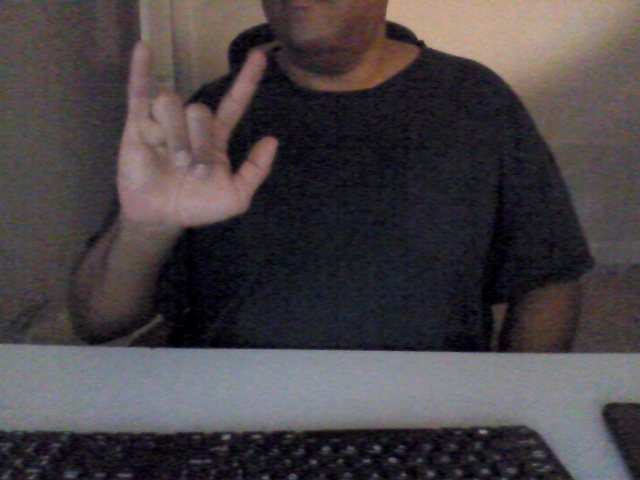i_love_you: (113, 37, 281, 231)
